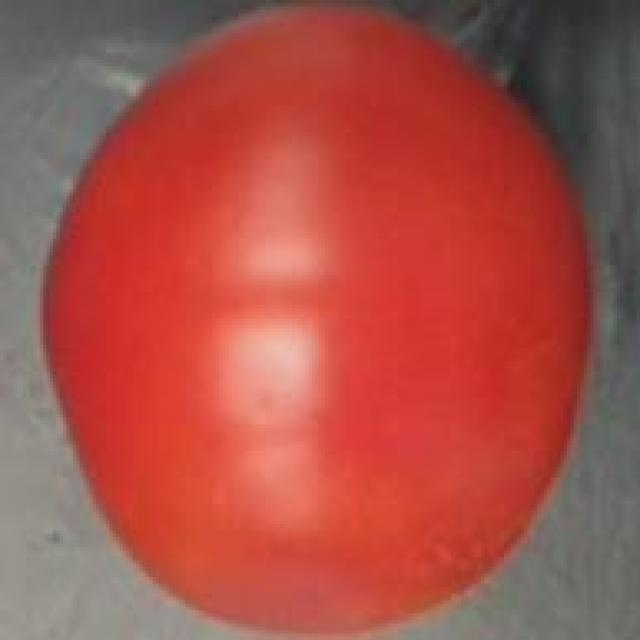ripe tomato: (40, 0, 607, 640)
